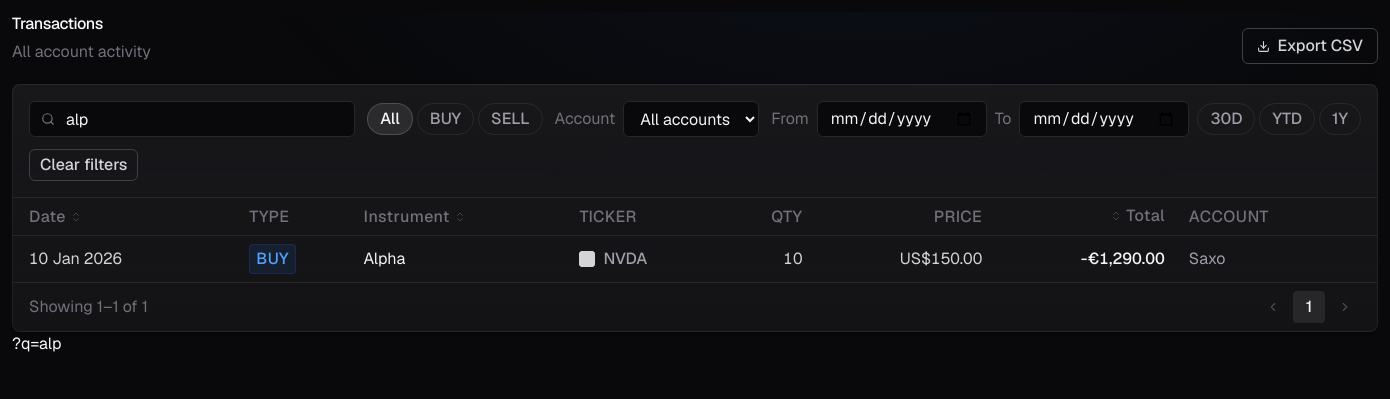
Test case: Transactions filters › follows the URL when it changes under the search box
Expected: the field named "Search" holds "alp", 29,101 -> 355,137
Click the button "Clear filters".
click(84, 165)  # box 29,149 -> 138,181
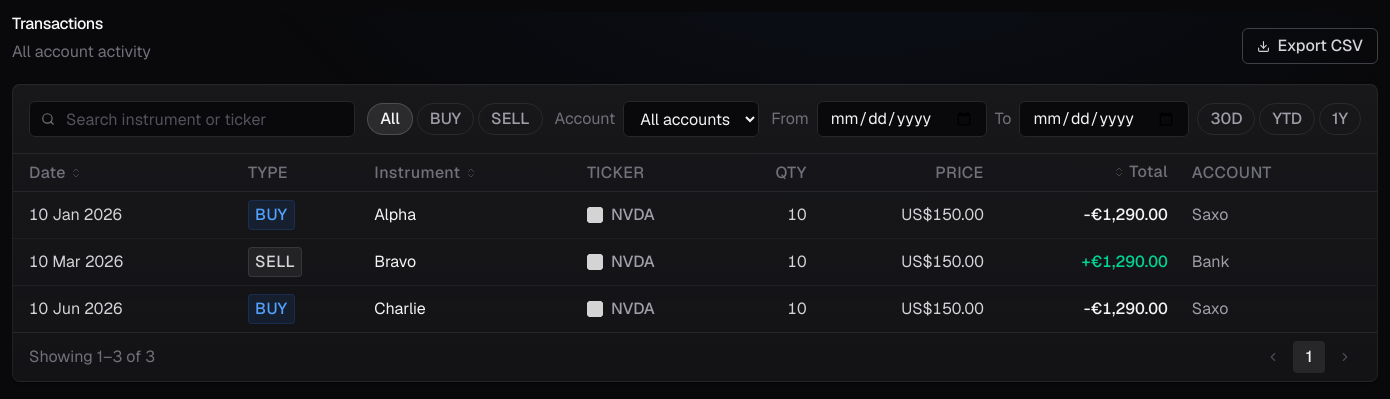
Now the field labelled "Search instrument or ticker" is empty, box 29,101 -> 355,137
